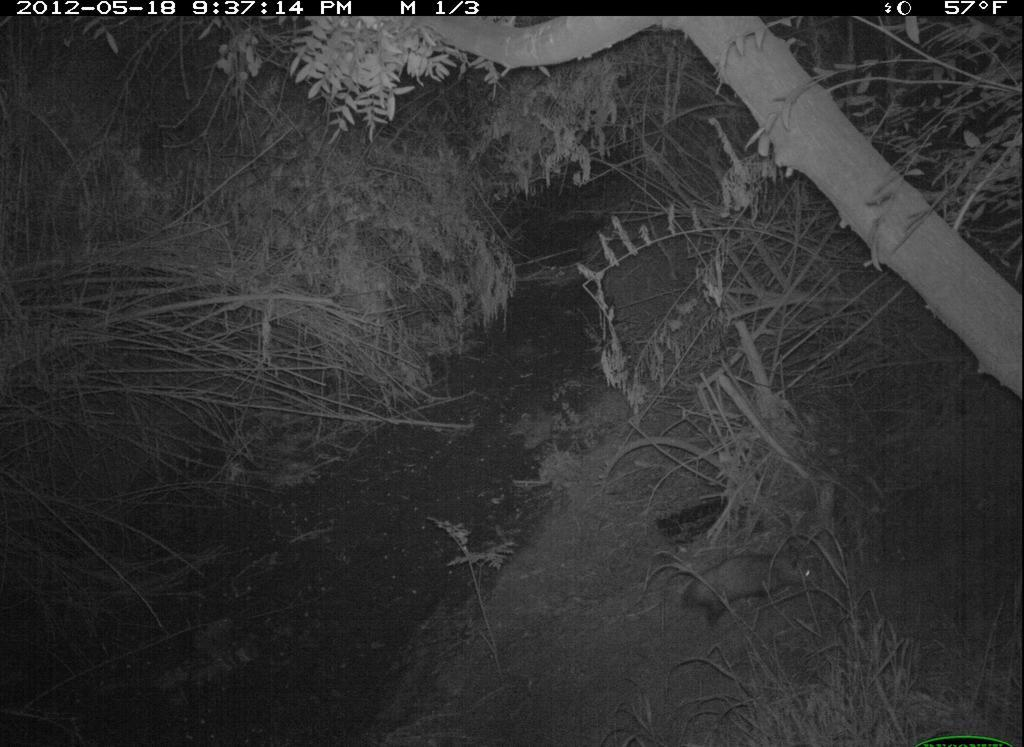opossum: (676, 532, 833, 642)
